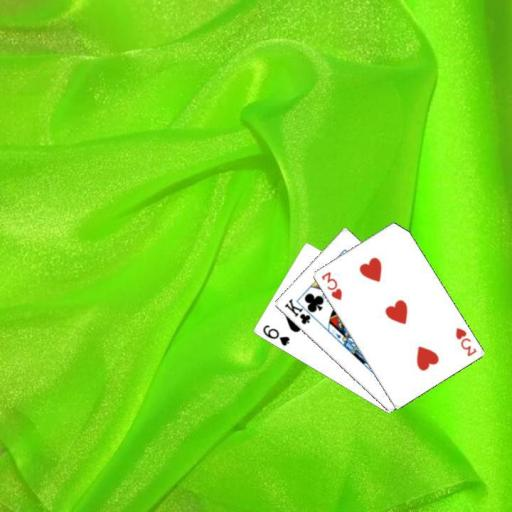3H: (452, 324, 478, 358), (318, 268, 343, 302)
6S: (259, 321, 291, 348)
KC: (281, 295, 318, 326)
